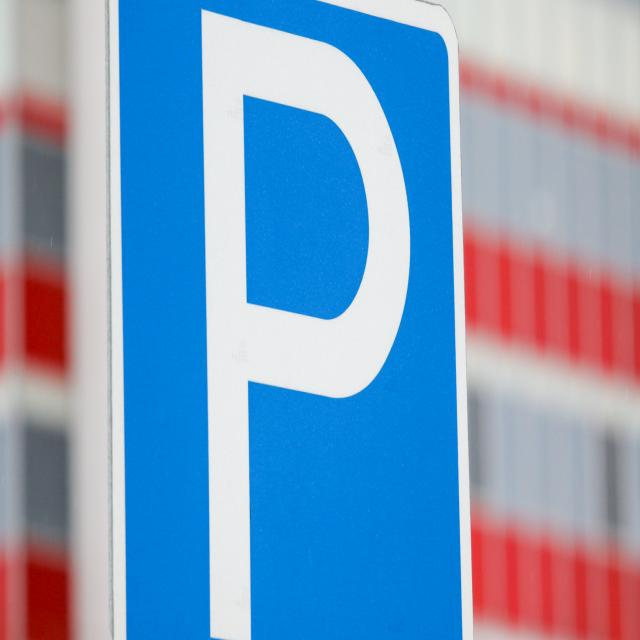parking: (115, 0, 458, 640)
